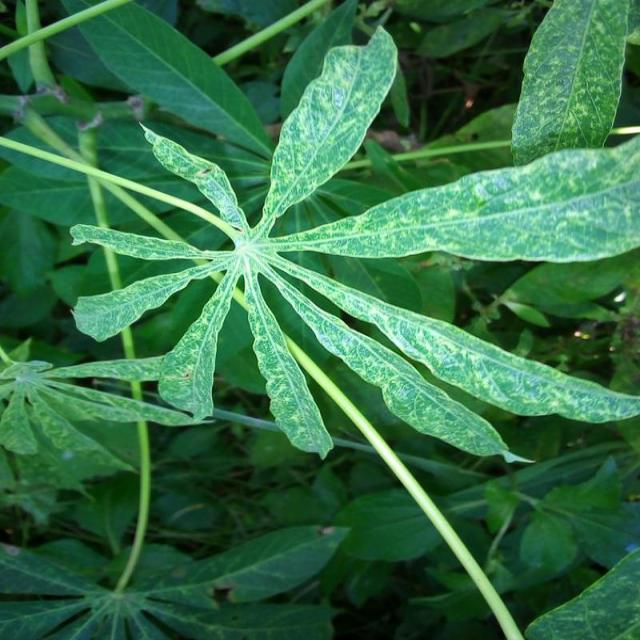cassava leaf: (62, 22, 638, 464), (260, 23, 398, 224), (508, 0, 637, 167)
